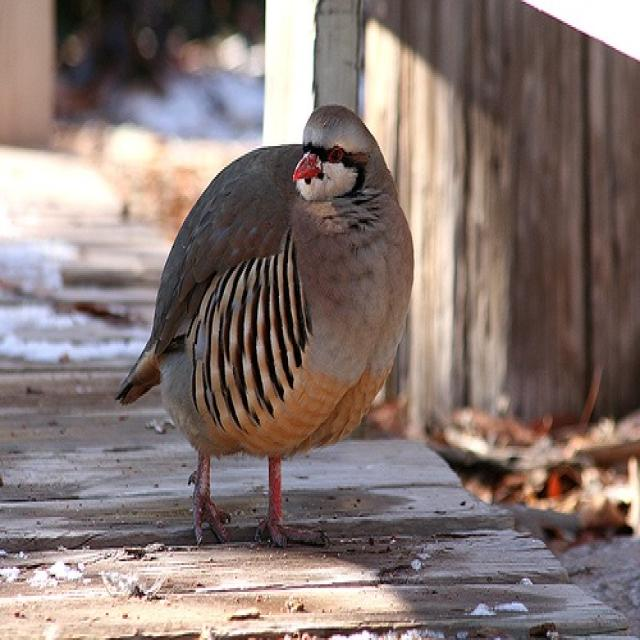bird: (113, 105, 419, 554)
